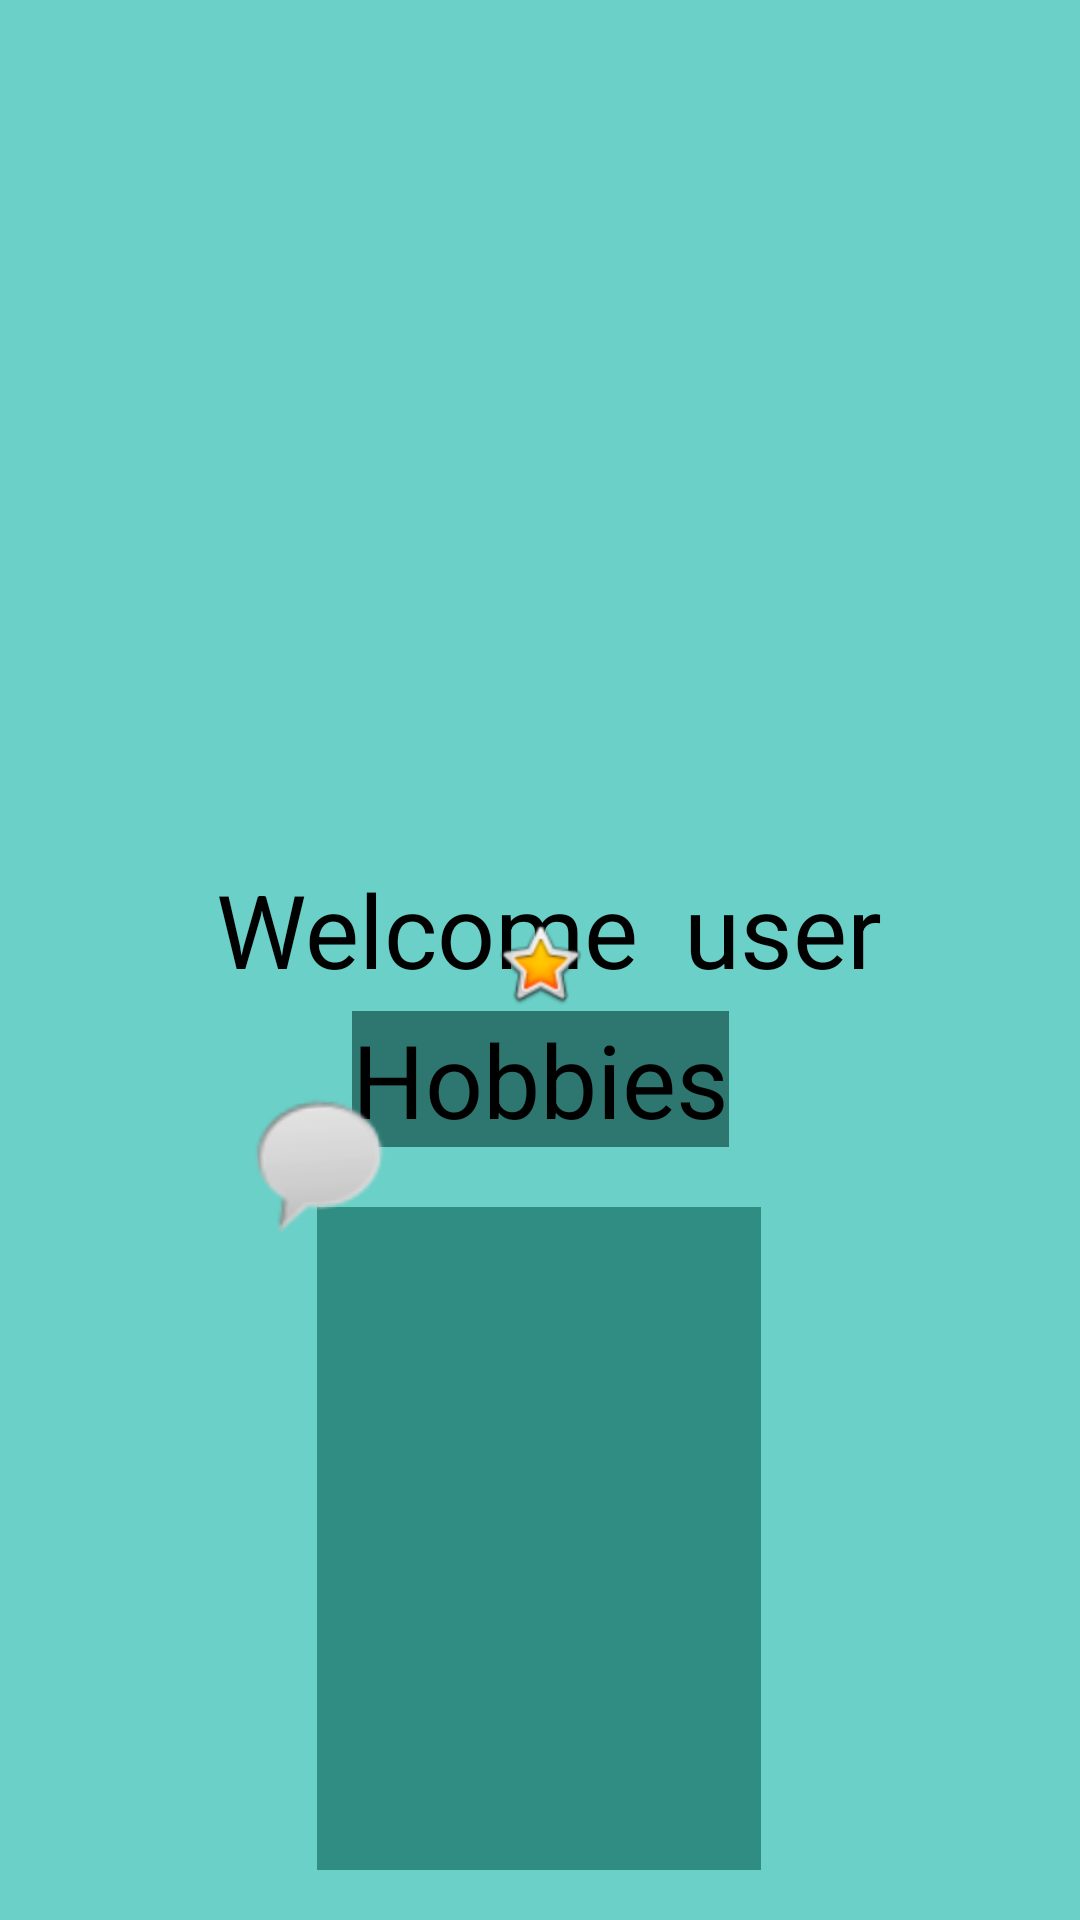

Icon bounding boxes for this 1080px×1920px phone screenshot, format detection(x1, y1, x2, y2):
star on: detection(501, 915, 581, 1003)
